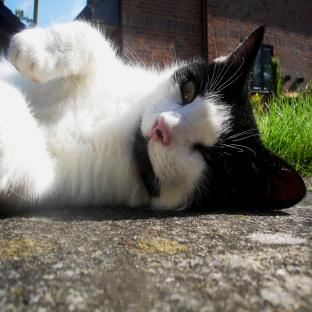Animal: (0, 20, 307, 210)
